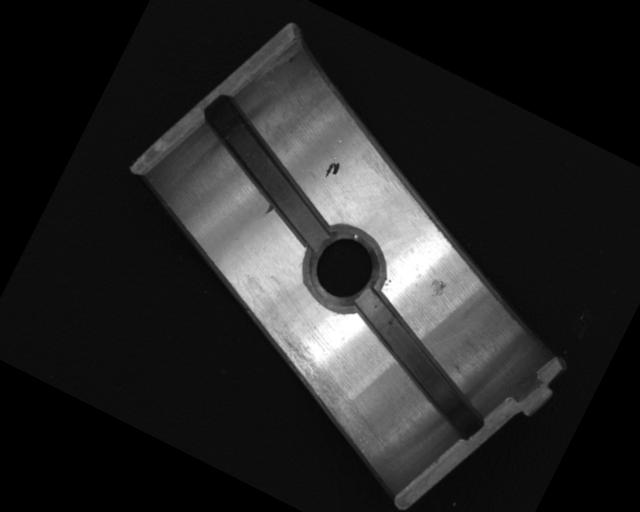blot: (322, 158, 343, 183)
bruise: (425, 275, 448, 300), (262, 202, 276, 218)
gap: (175, 94, 363, 253), (323, 289, 510, 442)
hole: (292, 216, 396, 323)
scratch: (228, 316, 415, 466)
